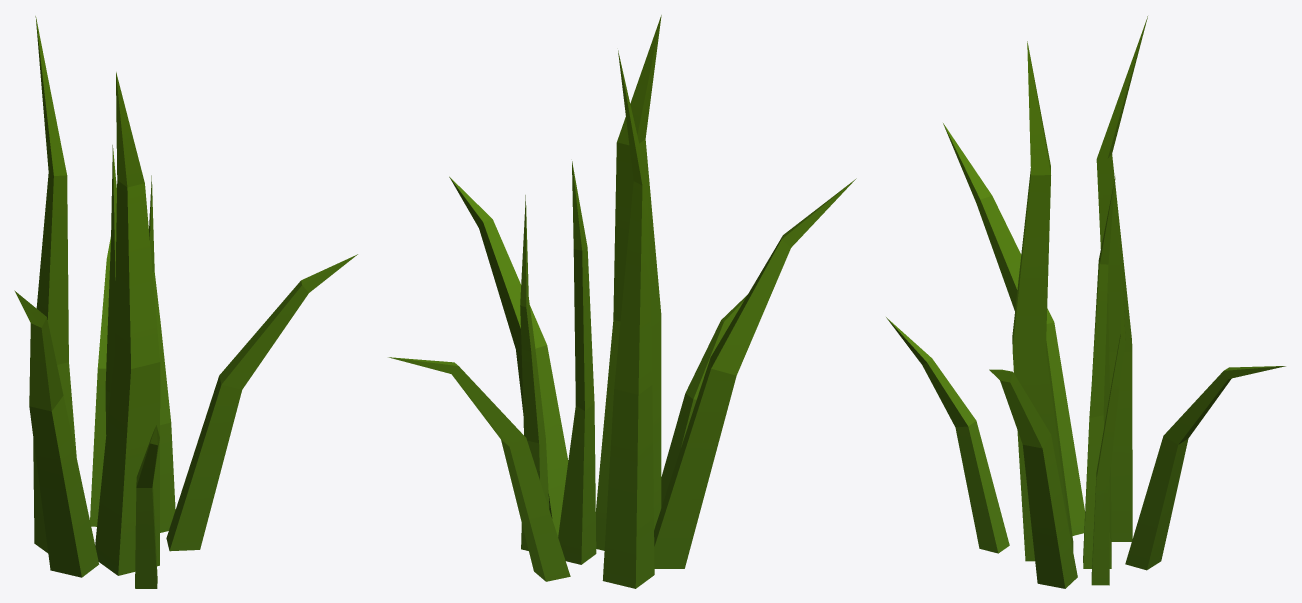
File: SM_Nature_Grass_01.fbx
3 views of the same model, side by side, from view 1: azimuth 30°, elevation 25°; view 2: azimuth 150°, elevation 25°; view 3: azimuth 270°, elevation 25° (orthographic). The views are drawn at different scales.
Parts seen in each view (by area): view 1: SM_Nature_Grass_01_LOD0; view 2: SM_Nature_Grass_01_LOD0; view 3: SM_Nature_Grass_01_LOD0.
Boxes of the visible parts, x1,y1,x2,y2 form: SM_Nature_Grass_01_LOD0: (14, 16, 357, 588); SM_Nature_Grass_01_LOD0: (388, 15, 856, 588); SM_Nature_Grass_01_LOD0: (886, 16, 1285, 588).
Bounding box in the file's own units: 0.4749 × 0.6435 × 0.4538.
